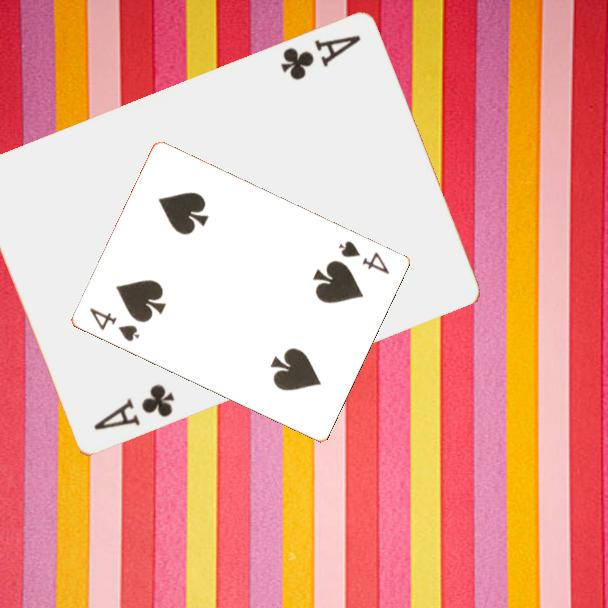c01: (90, 381, 177, 434), (277, 32, 364, 84)
s04: (85, 304, 143, 345), (335, 237, 392, 278)
